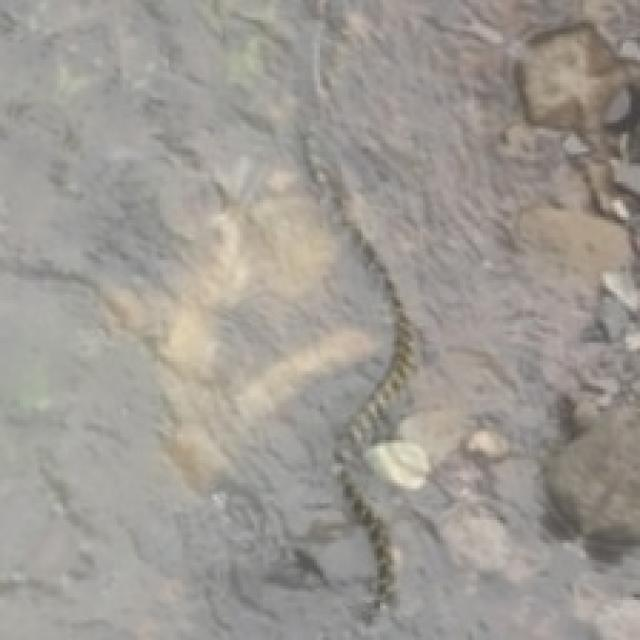mangrove cat snake: (303, 143, 414, 606)
